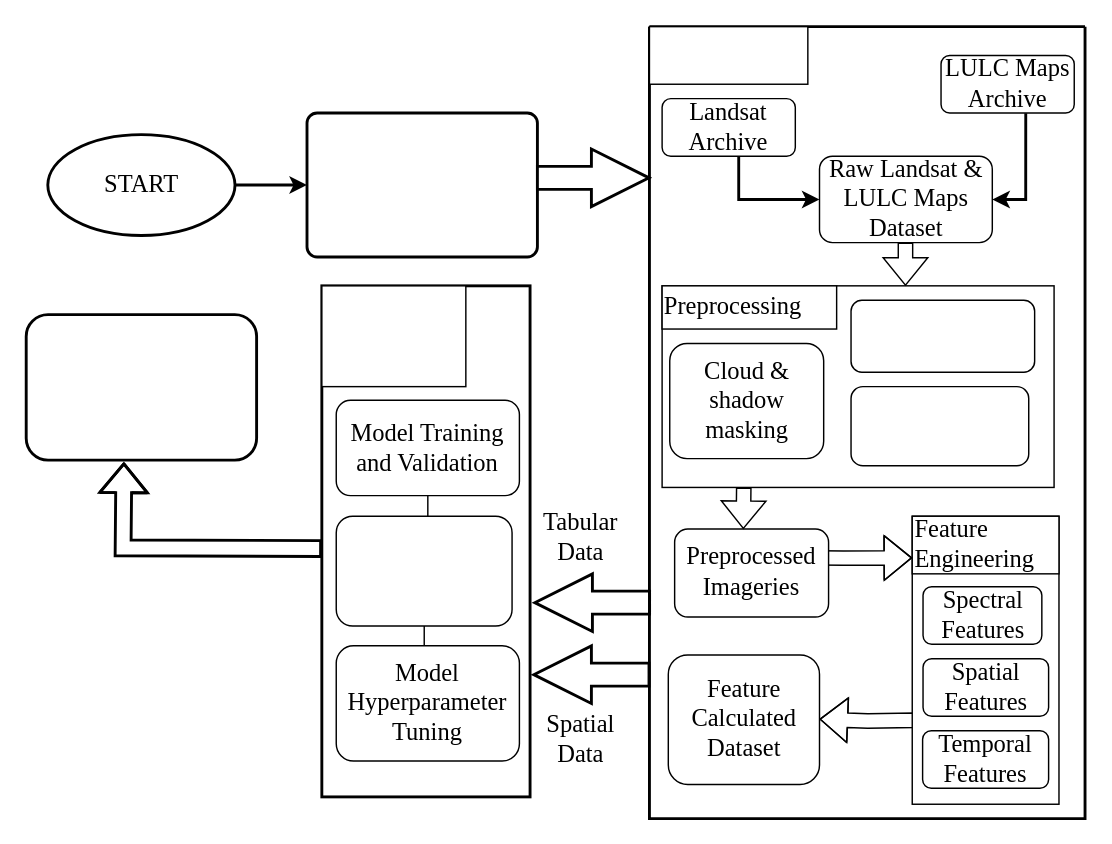
Some shapes in this 1112 by 844 pixel diagram are drawn without their labels. Each missing label, with the centre of its shape:
"Annual mosaics" belongs at (x=939, y=425).
"Data Preparation" belongs at (x=728, y=54).
"Model Performance Testing" belongs at (x=423, y=570).
"Modeling Training and Analysis" belongs at (x=393, y=335).
"Radiometric consistency" belongs at (x=942, y=335).
"Study Area Selection (Kathmandu Valley or Selected Urban Region)" belongs at (x=421, y=184).
"Urban growth and intensification dataset, predicted LULC maps" belongs at (x=140, y=386).
